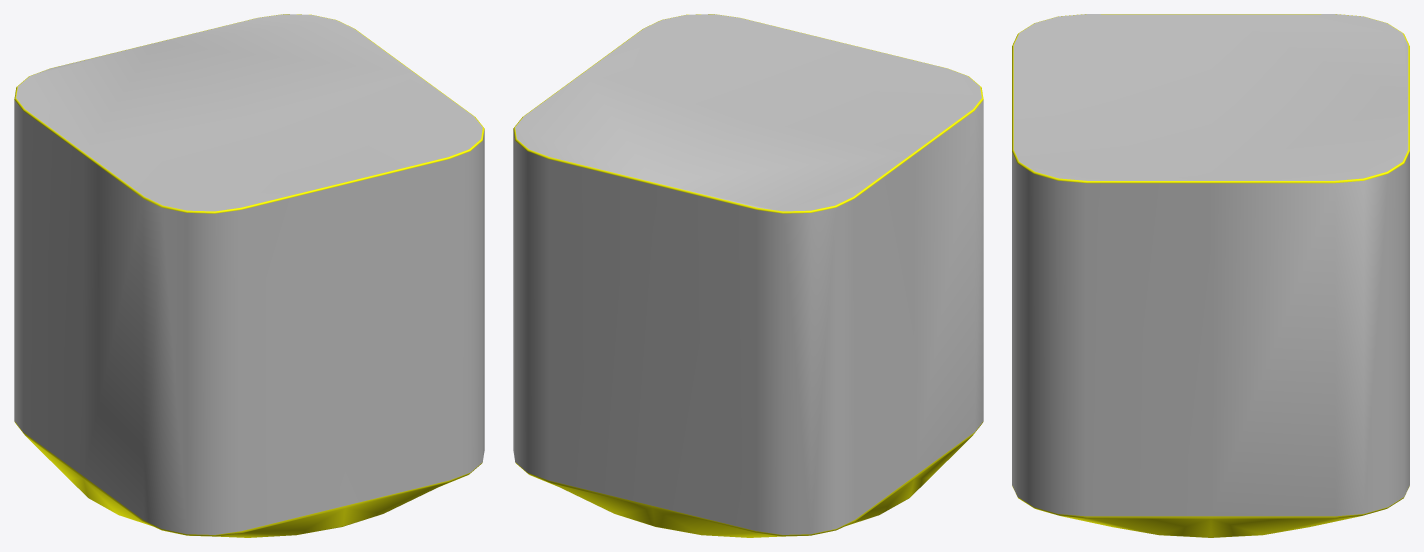
3 renders of one model, left to right at view 1: azimuth 30°, elevation 25°; view 2: azimuth 150°, elevation 25°; view 3: azimuth 270°, elevation 25°, orthographic. The views are drawn at different scales.
Visible parts, largest first — view 1: center_D; view 2: center_D; view 3: center_D.
Part boxes in pixels (x1=…): center_D: x1=14, y1=14, x2=484, y2=537; center_D: x1=513, y1=14, x2=983, y2=537; center_D: x1=1012, y1=14, x2=1409, y2=537.
Bounding box in the file's own units: 0.2003 × 0.1996 × 0.2003.
1 material, 1 textured.
